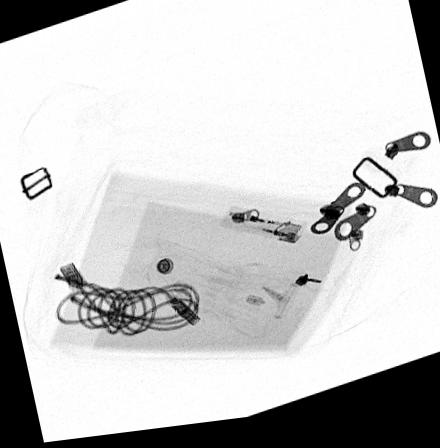Lighter: (217, 209, 309, 250)
